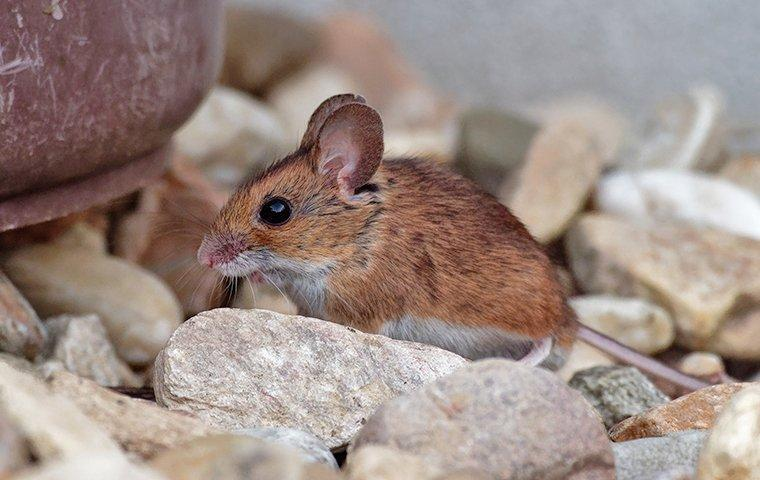rat: (196, 92, 713, 391)
